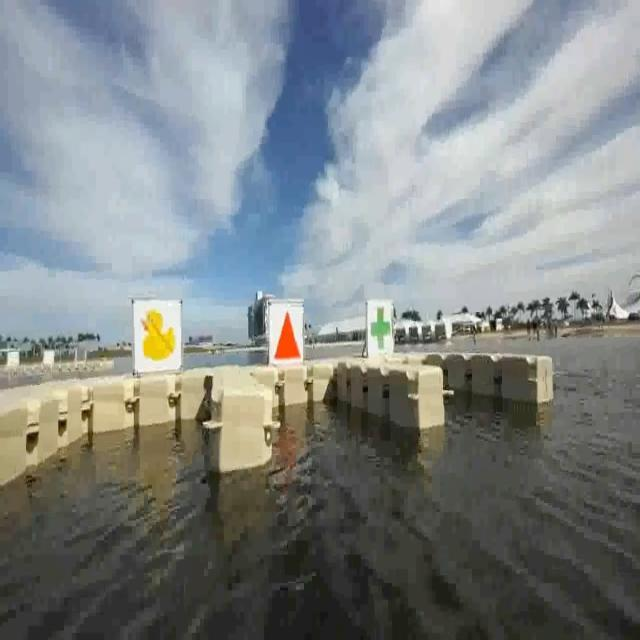blue-cross: (367, 298, 396, 362)
red-dot: (270, 305, 304, 362)
yellow-duck: (137, 300, 183, 374)
